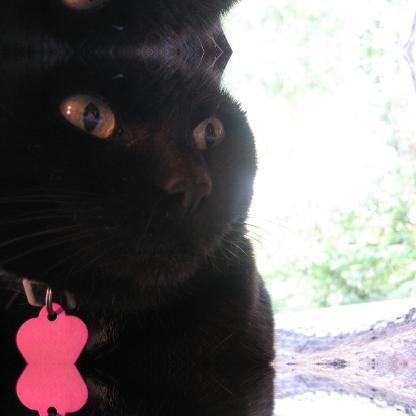Cat: (0, 51, 329, 363)
